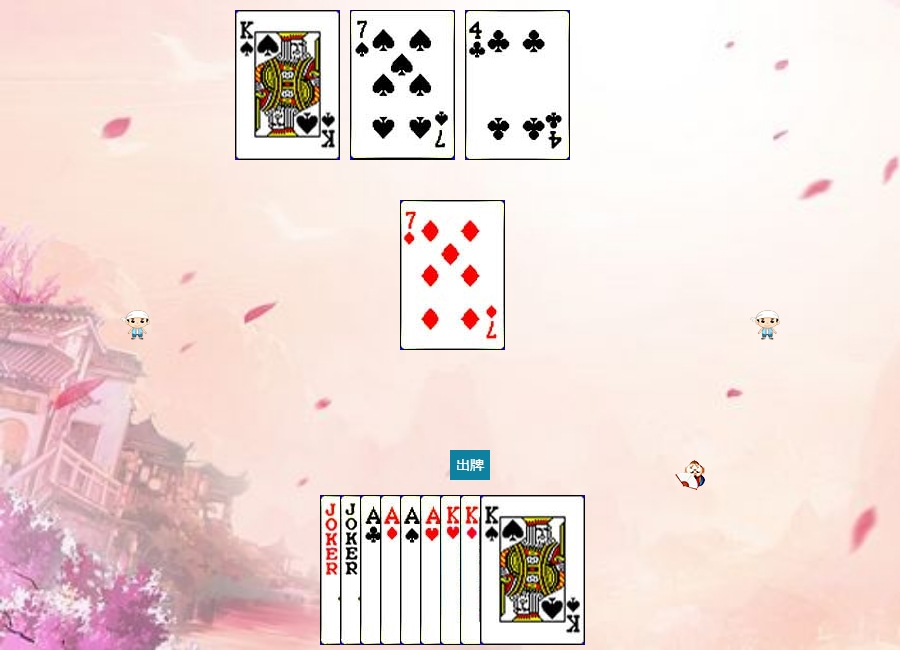13~1: (460, 495, 565, 645)
13~3: (440, 495, 545, 645)
13~4: (235, 10, 340, 160), (480, 495, 585, 645)
14~1: (380, 495, 485, 645)
14~2: (360, 495, 465, 645)
14~3: (420, 495, 525, 645)
14~4: (400, 495, 505, 645)
17~3: (340, 495, 445, 645)
18~4: (320, 495, 425, 645)
4~2: (465, 10, 570, 160)
7~1: (400, 200, 505, 350)
7~4: (350, 10, 455, 160)
